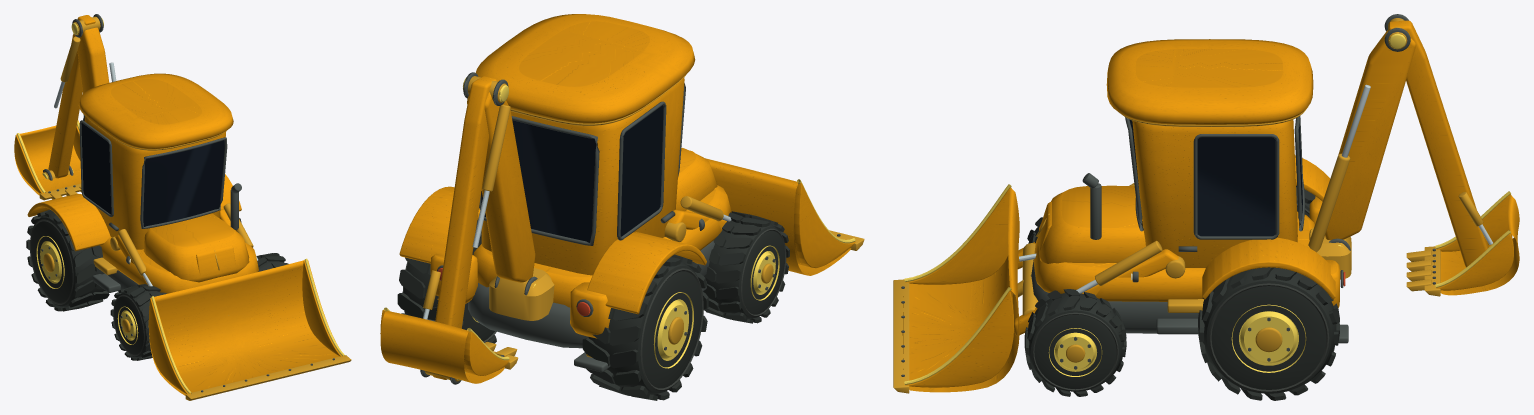
Rendered from dirty.glb.
3 renders of one model, left to right at view 1: azimuth 30°, elevation 25°; view 2: azimuth 150°, elevation 25°; view 3: azimuth 270°, elevation 25°, orthographic. The views are drawn at different scales.
Parts seen in each view (by area): view 1: Dirty_Worn_surface, FrontBucketShell_Worn_surface, Windshield_single_curved, Wheel_Rear_L_Charcoal_surface, Dirty_Dark_surface, RearBucketShell_Worn_surface, Rear curved descending stick, Wheel_Front_L_Charcoal_surface, Left_side_window, Rear tapered main boom, FrontBucket_hardened_cutting_blade, Yellow wheel rim (+8 smaller); view 2: Dirty_Worn_surface, Wheel_Rear_L_Charcoal_surface, Rear_window, Dirty_Dark_surface, FrontBucketShell_Worn_surface, Rear curved descending stick, Wheel_Front_L_Charcoal_surface, RearBucketShell_Worn_surface, Rear tapered main boom, Left_side_window, Rear swing casting, Wheel_Rear_R_Charcoal_surface (+7 smaller); view 3: Dirty_Worn_surface, FrontBucketShell_Worn_surface, Wheel_Rear_R_Charcoal_surface, Right_side_window, Rear tapered main boom, Wheel_Front_R_Charcoal_surface, Dirty_Dark_surface, Rear curved descending stick, RearBucketShell_Worn_surface, Yellow wheel rim.002, FrontBucket_hardened_cutting_blade, RearBucketShell_Ochre_surface (+12 smaller).
Part boxes in pixels (<box>): Dirty_Worn_surface: <box>27,73,258,293</box>; FrontBucketShell_Worn_surface: <box>148,260,345,395</box>; Windshield_single_curved: <box>143,140,224,226</box>; Wheel_Rear_L_Charcoal_surface: <box>26,209,109,311</box>; Dirty_Dark_surface: <box>79,114,241,292</box>; RearBucketShell_Worn_surface: <box>14,120,81,195</box>; Rear curved descending stick: <box>48,15,95,178</box>; Wheel_Front_L_Charcoal_surface: <box>110,284,166,360</box>; Left_side_window: <box>81,123,111,214</box>; Rear tapered main boom: <box>75,27,109,93</box>; FrontBucket_hardened_cutting_blade: <box>185,355,351,400</box>; Yellow wheel rim: <box>36,236,64,288</box>; Dirty_Worn_surface: <box>399,14,731,338</box>; Wheel_Rear_L_Charcoal_surface: <box>582,254,708,400</box>; Rear_window: <box>481,120,597,242</box>; Dirty_Dark_surface: <box>427,83,714,372</box>; FrontBucketShell_Worn_surface: <box>705,158,855,275</box>; Rear curved descending stick: <box>432,76,496,379</box>; Wheel_Front_L_Charcoal_surface: <box>703,211,789,323</box>; RearBucketShell_Worn_surface: <box>380,310,509,383</box>; Rear tapered main boom: <box>467,92,535,282</box>; Left_side_window: <box>620,105,663,236</box>; Rear swing casting: <box>489,268,554,320</box>; Wheel_Rear_R_Charcoal_surface: <box>397,220,496,343</box>; Dirty_Worn_surface: <box>1033,39,1339,308</box>; FrontBucketShell_Worn_surface: <box>902,187,1019,392</box>; Wheel_Rear_R_Charcoal_surface: <box>1198,267,1339,400</box>; Right_side_window: <box>1197,137,1275,236</box>; Rear tapered main boom: <box>1325,30,1415,240</box>; Wheel_Front_R_Charcoal_surface: <box>1024,289,1126,396</box>; Dirty_Dark_surface: <box>1031,116,1348,343</box>; Rear curved descending stick: <box>1389,20,1488,267</box>; RearBucketShell_Worn_surface: <box>1434,194,1519,295</box>; Yellow wheel rim.002: <box>1231,304,1306,372</box>; FrontBucket_hardened_cutting_blade: <box>893,279,909,393</box>; RearBucketShell_Ochre_surface: <box>1406,246,1440,296</box>.
Size of the model in its own units: 3.53 by 4.61 by 8.03.
Materials: 10 (2 with a texture image).
